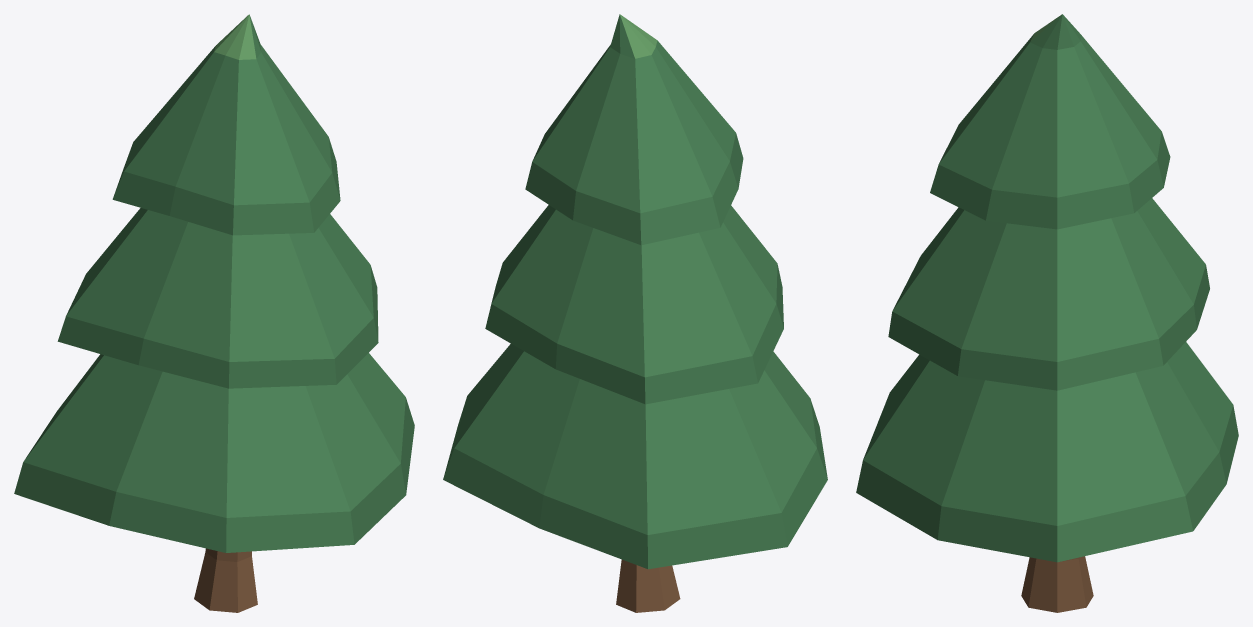
The model's file is WR_Env_Tree_Pine_03.glb.
The picture shows the model from 3 angles, left to right: view 1: azimuth 30°, elevation 25°; view 2: azimuth 150°, elevation 25°; view 3: azimuth 270°, elevation 25°; orthographic projection. The views are drawn at different scales.
Visible parts, largest first — view 1: Pine_CONNECTED_Foliage, Pine_TaperedTrunk; view 2: Pine_CONNECTED_Foliage, Pine_TaperedTrunk; view 3: Pine_CONNECTED_Foliage, Pine_TaperedTrunk.
Part boxes in pixels (x1,y1,x2,y2): Pine_CONNECTED_Foliage: (14,14,414,552); Pine_TaperedTrunk: (194,548,257,612); Pine_CONNECTED_Foliage: (443,14,827,569); Pine_TaperedTrunk: (616,559,680,612); Pine_CONNECTED_Foliage: (856,14,1238,562); Pine_TaperedTrunk: (1021,556,1093,612).
Bounding box in the file's own units: 1.48 × 2.24 × 1.3.
